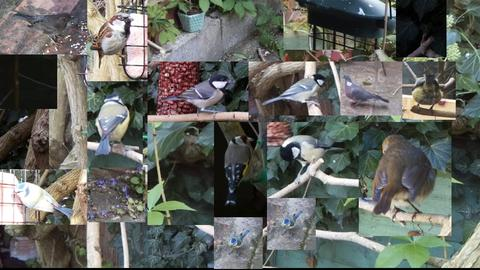blackbird: (12, 12, 75, 46)
blue tit: (12, 182, 74, 218), (94, 94, 130, 155), (412, 74, 443, 116), (281, 210, 303, 239), (228, 230, 250, 258)
goldfinch: (224, 134, 254, 206)
great tit: (160, 74, 236, 120), (280, 134, 346, 186), (261, 74, 328, 107)
robin: (371, 134, 439, 224)
sparrow: (90, 12, 135, 69)
wood pigeon: (341, 74, 390, 107)
